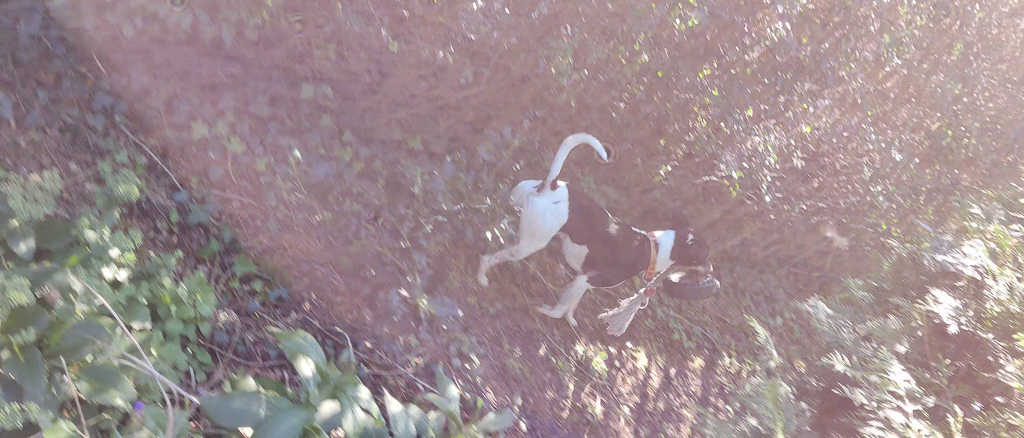Dog: (462, 121, 725, 331)
